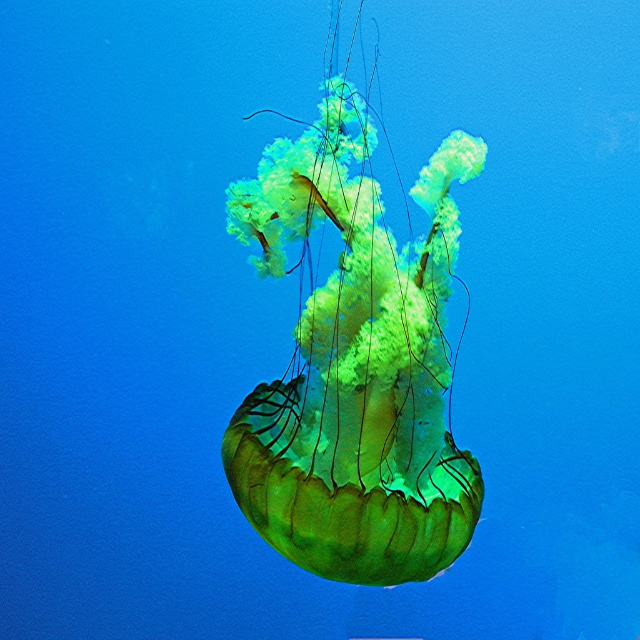Jellyfish: (218, 0, 485, 583)
